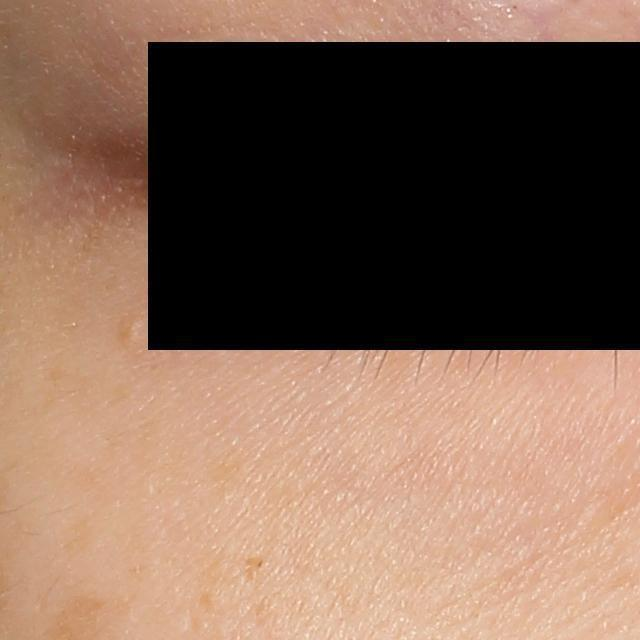melasma: (242, 550, 270, 586)
